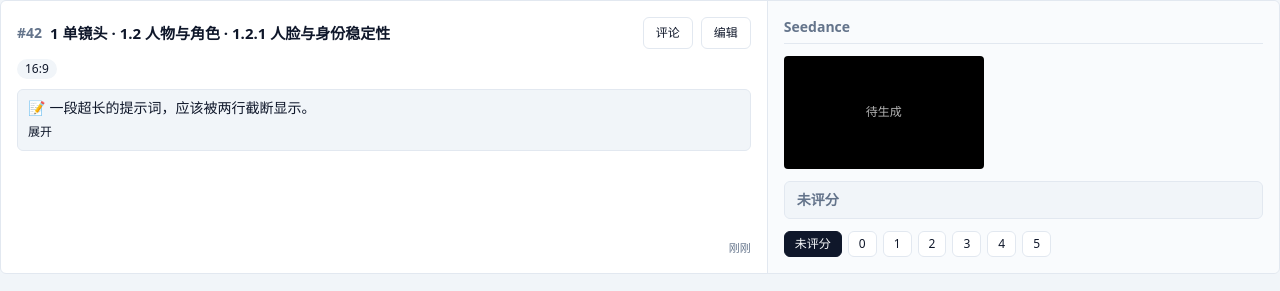
BenchmarkCard › toggles the prompt with 展开 / 收起
The width and height of the screenshot is (1280, 291).
Step 1. Click the button with aria-label "切换提示词" → click(40, 132), box [28,124,52,140]
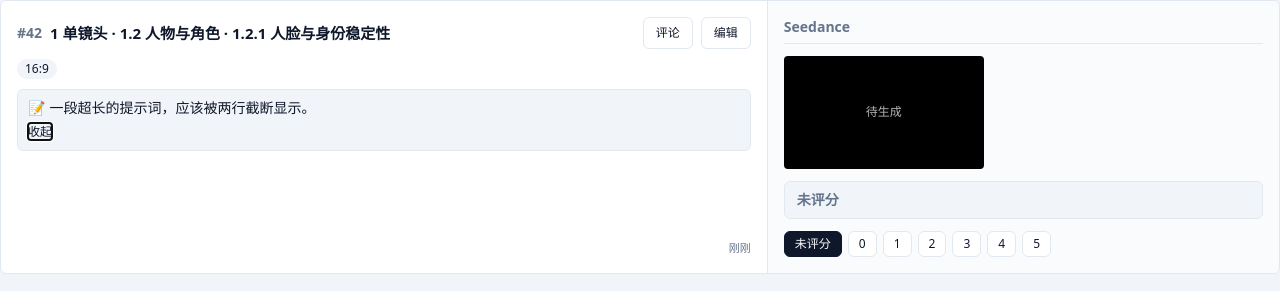
Check: the button with aria-label "切换提示词" reads "收起", box [28,124,52,140]
